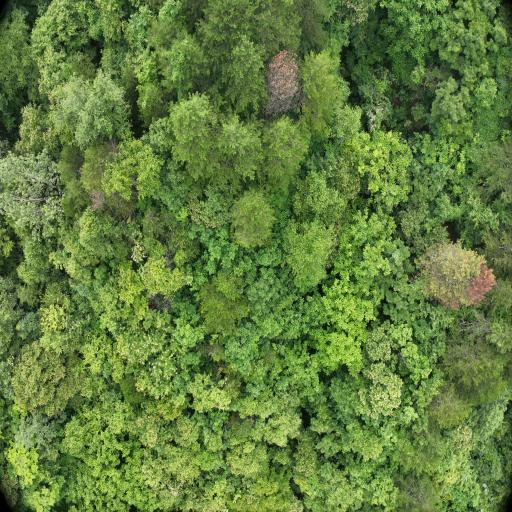sick-tree: (431, 246, 487, 300), (270, 56, 296, 108)
